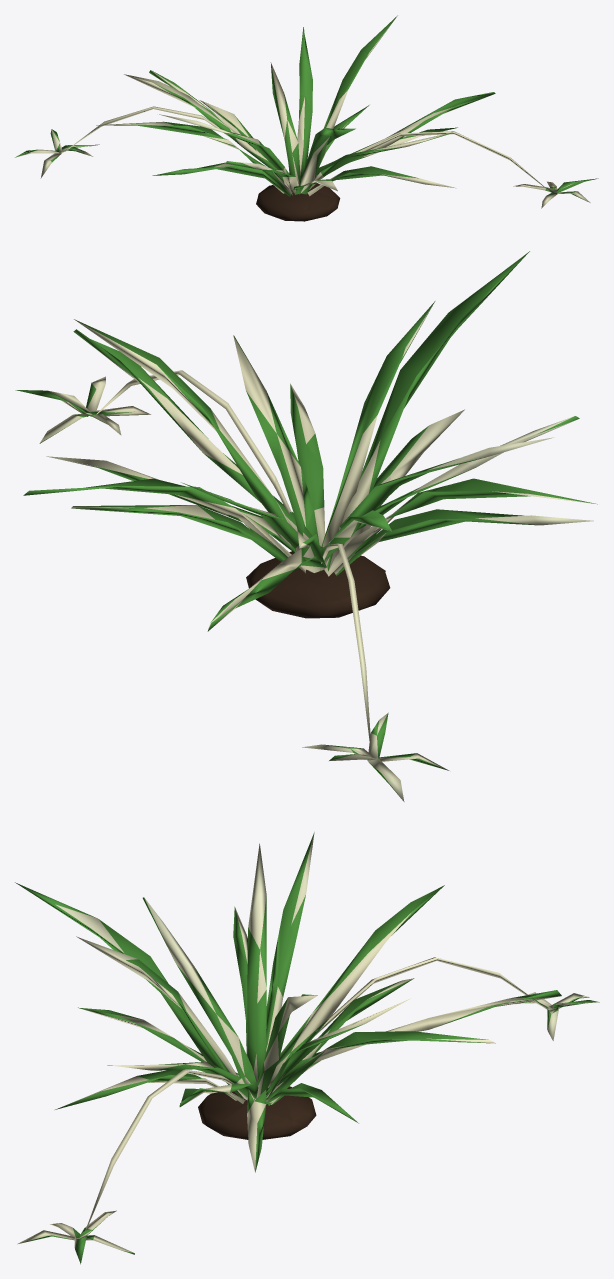
The model's file is canopy_spider_tuft_lod2.glb.
3 views of the same model, one above another, from view 1: azimuth 30°, elevation 25°; view 2: azimuth 150°, elevation 25°; view 3: azimuth 270°, elevation 25° (orthographic). The views are drawn at different scales.
Parts seen in each view (by area): view 1: canopy_spider_tuft.001; view 2: canopy_spider_tuft.001; view 3: canopy_spider_tuft.001.
Boxes of the visible parts, x1,y1,x2,y2 form: canopy_spider_tuft.001: [15, 15, 598, 221]; canopy_spider_tuft.001: [15, 251, 597, 801]; canopy_spider_tuft.001: [15, 832, 599, 1264].
Size of the model in its own units: 14.62 by 5.01 by 12.26.
